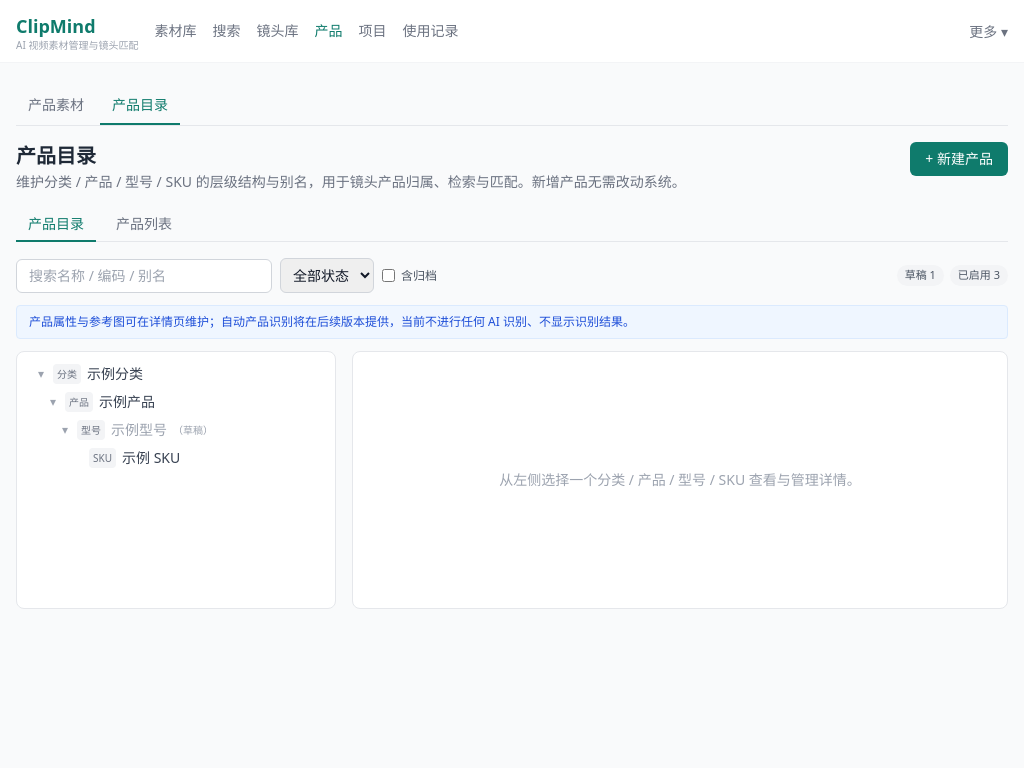
CatalogView › 点击新建打开创建向导
Click the button with test id "open-create-wizard": (959, 159) [910, 142, 1008, 176]
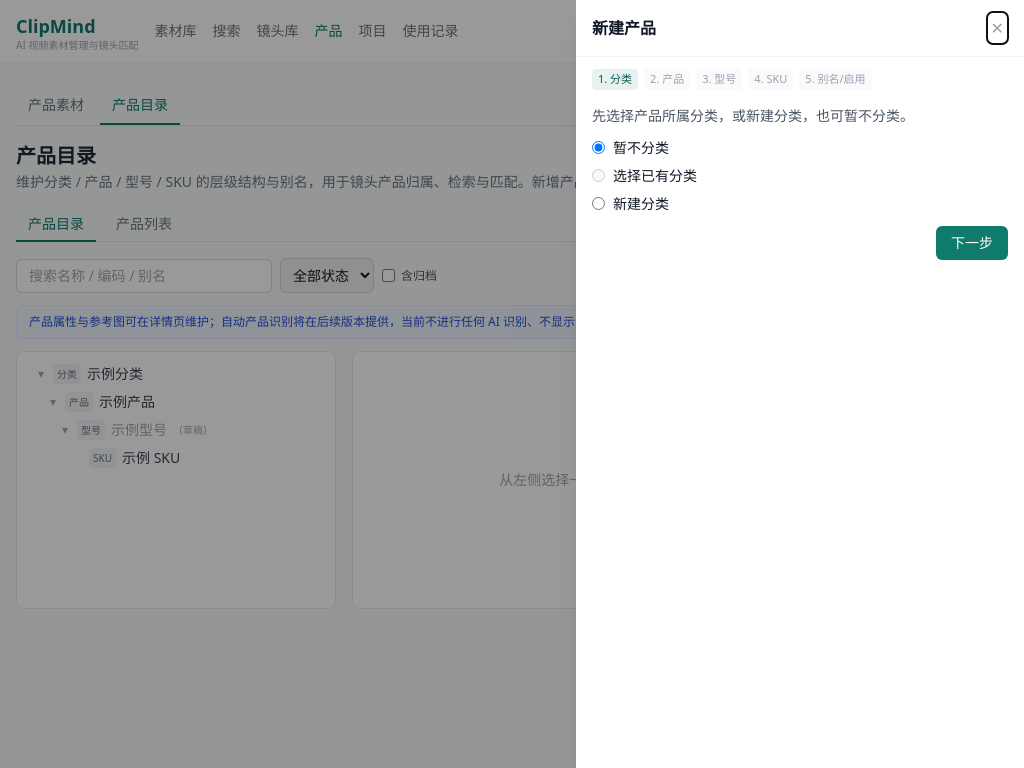
Result: the element with test id "create-wizard" is shown at [592, 69, 1008, 260]
Result: the element with test id "wizard-step-category" is shown at [592, 106, 1008, 260]
